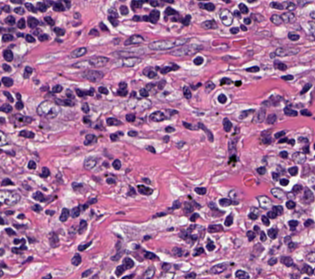nucleus: (148, 38, 188, 50), (37, 100, 60, 118), (171, 44, 202, 56), (270, 47, 298, 57), (114, 48, 145, 57), (198, 123, 213, 141), (82, 70, 103, 81), (88, 56, 108, 66), (124, 35, 143, 45), (253, 108, 265, 122), (160, 64, 178, 73), (149, 111, 165, 121), (210, 263, 226, 273), (84, 157, 97, 169), (258, 196, 271, 208), (123, 57, 140, 66), (71, 47, 86, 57), (271, 188, 285, 198), (239, 109, 254, 118), (137, 185, 152, 194), (172, 247, 187, 256), (143, 68, 156, 78), (117, 82, 127, 95), (261, 131, 271, 144), (292, 152, 305, 162), (32, 191, 45, 201), (59, 208, 69, 221), (49, 232, 58, 246), (143, 267, 154, 278), (280, 256, 292, 266), (284, 107, 297, 116), (304, 189, 313, 202), (78, 241, 91, 250), (76, 89, 92, 96), (208, 224, 222, 232), (235, 270, 249, 278), (84, 134, 95, 144), (71, 254, 81, 265), (123, 257, 133, 268), (184, 202, 193, 214), (223, 118, 231, 131), (56, 99, 73, 105), (272, 205, 282, 215), (267, 228, 277, 238), (269, 96, 280, 105), (115, 265, 124, 276), (106, 118, 120, 125), (183, 86, 191, 98), (219, 198, 231, 206), (224, 214, 232, 226), (79, 220, 86, 233), (144, 252, 157, 259), (300, 84, 310, 93), (266, 114, 276, 123), (40, 167, 49, 177), (303, 265, 313, 274), (275, 62, 286, 70), (71, 206, 79, 217), (206, 239, 214, 250), (205, 81, 214, 90), (139, 88, 148, 97), (217, 94, 226, 103), (288, 166, 297, 175), (193, 56, 203, 64), (112, 159, 120, 169), (266, 210, 276, 218), (261, 215, 269, 225), (247, 230, 255, 240), (193, 247, 203, 255), (288, 33, 299, 40), (195, 187, 206, 194), (98, 86, 107, 94), (81, 103, 89, 112), (126, 113, 135, 121), (292, 184, 301, 192), (286, 200, 295, 208), (288, 220, 297, 228), (52, 85, 62, 92), (274, 131, 284, 138), (220, 78, 231, 84), (300, 109, 311, 115), (257, 166, 265, 174), (190, 213, 198, 221), (288, 241, 296, 249), (268, 257, 276, 265), (183, 122, 192, 129), (128, 187, 135, 196), (304, 219, 313, 226), (38, 34, 48, 40), (246, 66, 258, 71), (281, 75, 293, 80), (280, 178, 288, 185), (208, 202, 216, 209), (162, 263, 170, 270), (153, 212, 164, 217), (89, 29, 98, 35), (165, 126, 174, 132), (128, 130, 137, 136), (146, 146, 155, 152), (229, 154, 235, 163), (106, 177, 115, 183), (260, 232, 266, 241), (82, 270, 91, 276), (185, 272, 195, 277), (83, 116, 90, 123), (172, 201, 179, 208), (33, 204, 40, 211), (249, 212, 256, 219), (66, 90, 72, 98), (279, 137, 287, 143), (279, 151, 287, 157), (110, 134, 117, 140), (287, 139, 294, 145), (272, 172, 278, 179), (176, 142, 184, 147), (88, 198, 96, 203), (308, 253, 313, 261), (303, 145, 308, 152), (299, 137, 307, 141), (285, 237, 290, 243), (46, 210, 53, 214), (124, 274, 133, 277), (82, 204, 87, 209), (254, 225, 259, 230), (235, 81, 241, 85), (44, 274, 51, 277)
